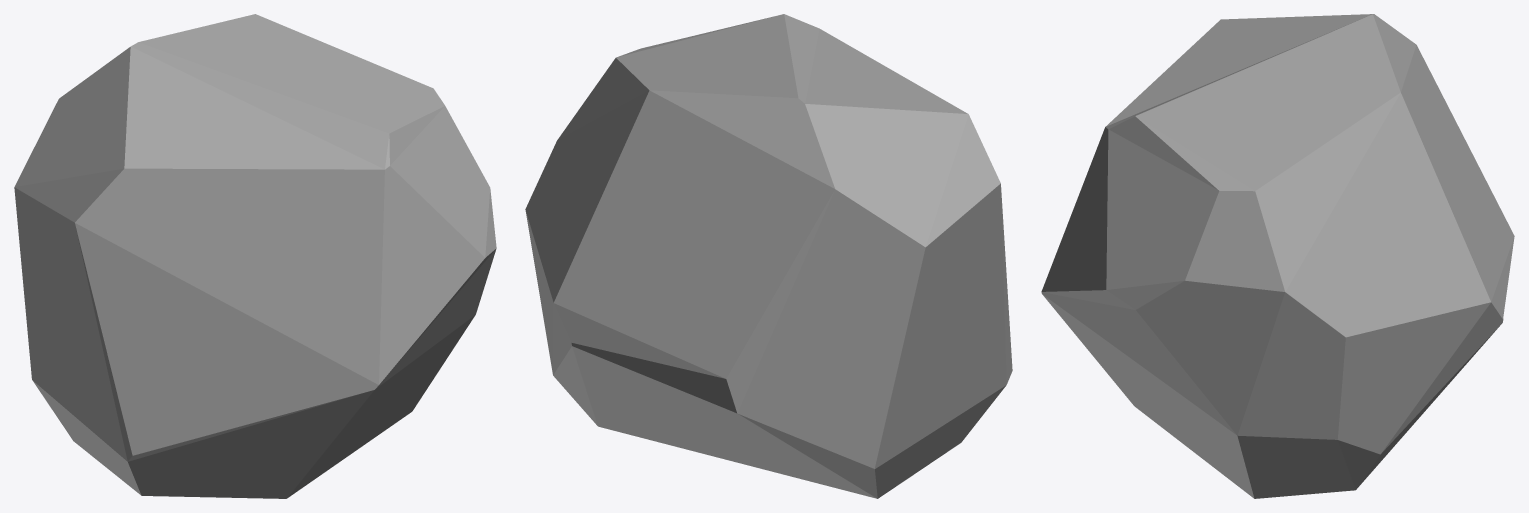
The model's file is F_Stone_12_0.fbx.
The picture shows the model from 3 angles, left to right: view 1: azimuth 30°, elevation 25°; view 2: azimuth 150°, elevation 25°; view 3: azimuth 270°, elevation 25°; orthographic projection. The views are drawn at different scales.
Visible parts, largest first — view 1: F_Stone_12_0; view 2: F_Stone_12_0; view 3: F_Stone_12_0.
Boxes of the visible parts, box(x1,y1,x2,y2) form: F_Stone_12_0: box(14, 14, 496, 498); F_Stone_12_0: box(525, 14, 1012, 498); F_Stone_12_0: box(1041, 14, 1514, 498).
Size of the model in its own units: 92.67 by 81.86 by 92.49.
Materials: 1 (1 with a texture image).
